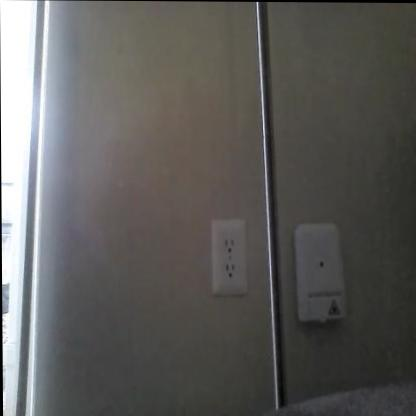OUTLET: (212, 218, 249, 295)
